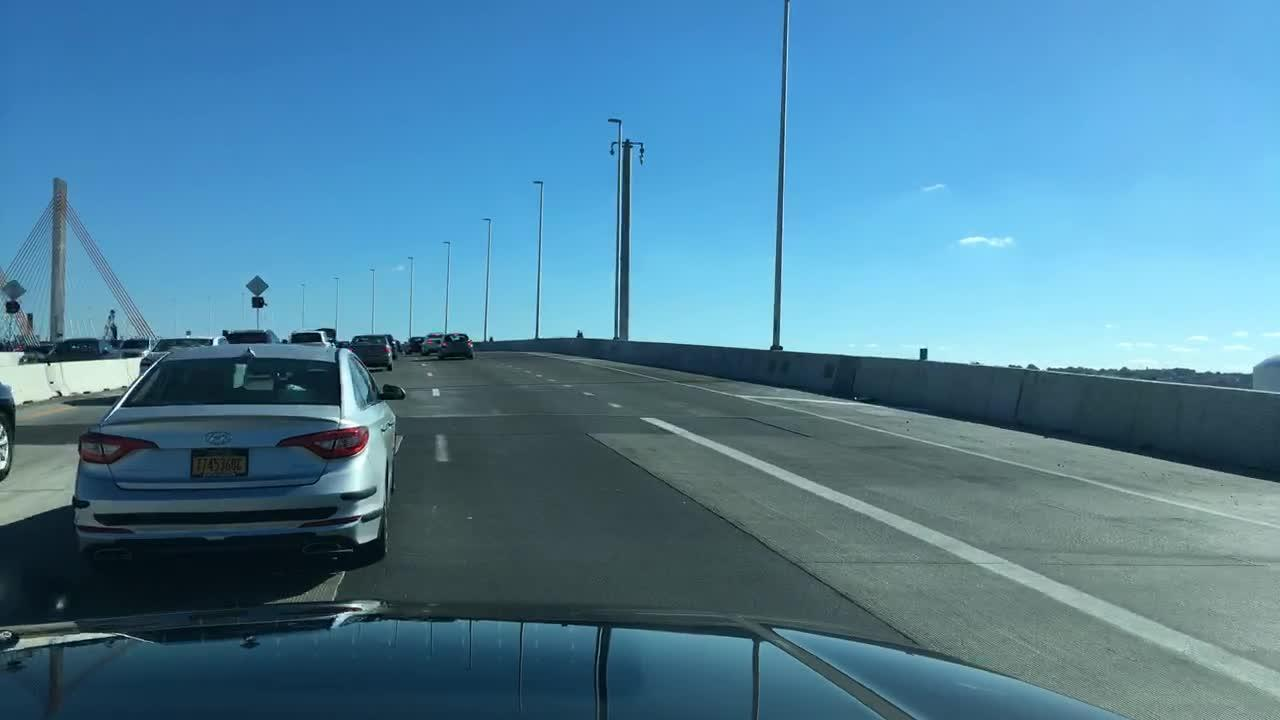Hyundai: (198, 428, 236, 449)
